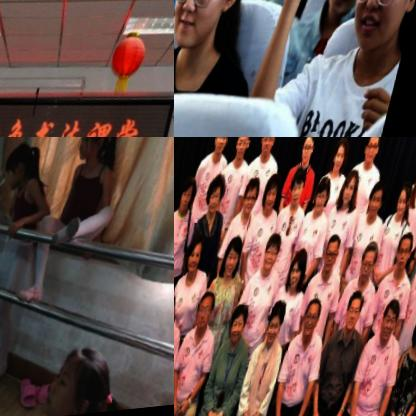head: (45, 336, 126, 416), (174, 0, 268, 68), (350, 0, 416, 60), (1, 143, 47, 200), (320, 0, 388, 26), (73, 137, 118, 176), (219, 233, 252, 281), (355, 243, 385, 294), (226, 303, 256, 348), (379, 301, 409, 346), (287, 248, 314, 298), (264, 301, 291, 350), (344, 292, 371, 340), (202, 174, 229, 220), (193, 293, 222, 334), (328, 138, 353, 184), (175, 173, 200, 218), (183, 233, 208, 278), (260, 236, 287, 277), (302, 303, 327, 347), (260, 175, 285, 219), (366, 180, 391, 223), (392, 186, 416, 229), (338, 174, 364, 213), (285, 170, 310, 210), (240, 178, 264, 218), (322, 238, 344, 278), (395, 237, 416, 276), (312, 179, 335, 213), (296, 137, 319, 171), (360, 137, 384, 169), (255, 137, 281, 161), (229, 137, 254, 161), (174, 289, 184, 337), (209, 137, 232, 157)
